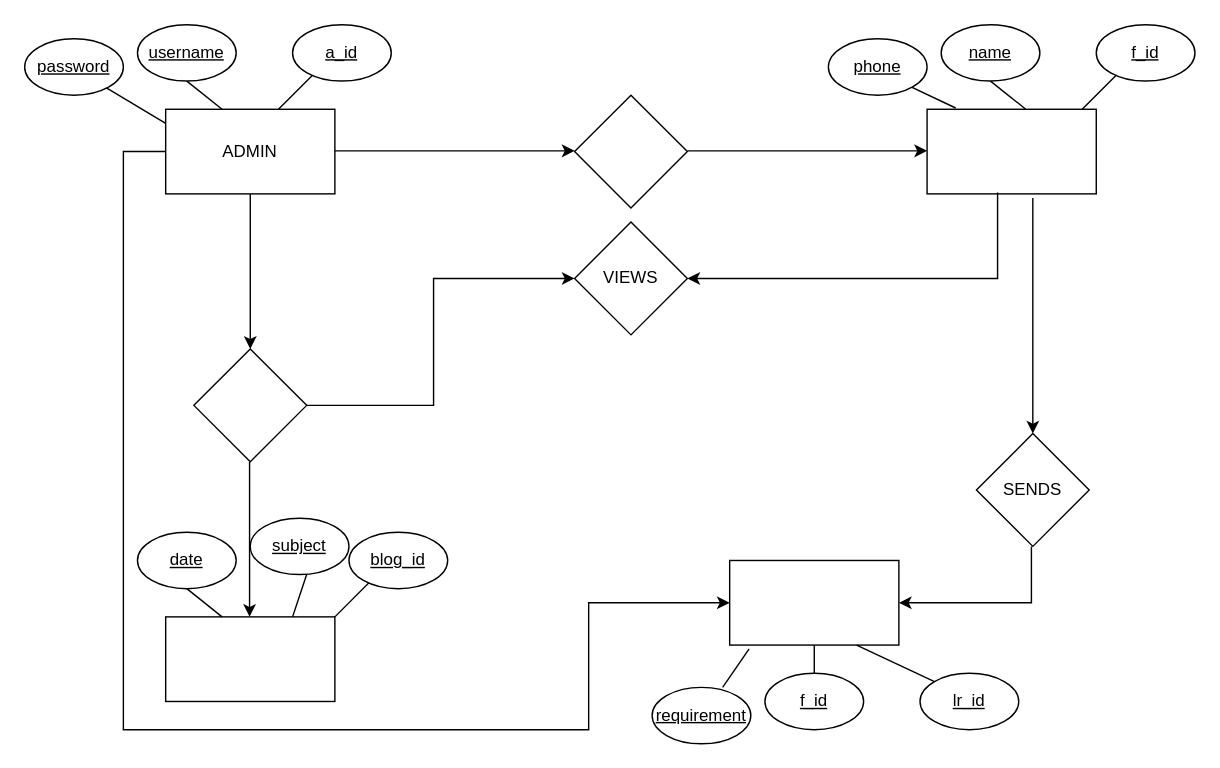
This 1220x768 diagram has some shape labels left out. Each missing label, with the centre of its shape:
"BLOG" belongs at point (249, 658).
"FARMER" belongs at point (1011, 151).
"L_REQUEST" belongs at point (813, 602).
"MANAGES" belongs at point (630, 151).
"UPLOADS" belongs at point (249, 405).
